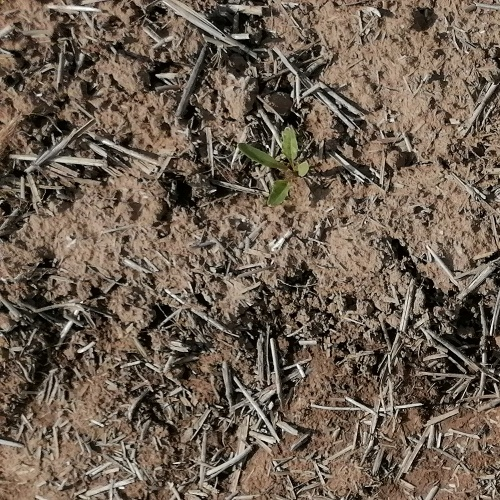beet: (237, 126, 310, 209)
